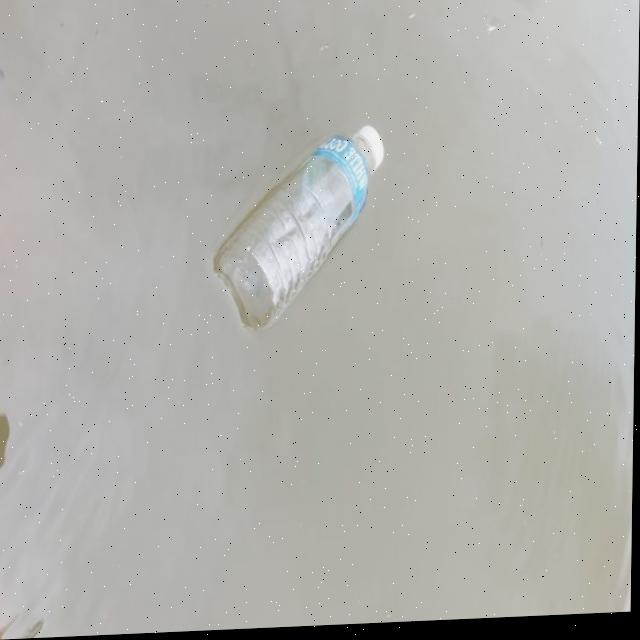waterbottle: (202, 104, 404, 363)
